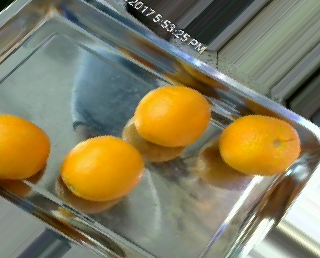Orange: (60, 134, 144, 202), (217, 113, 303, 177), (132, 84, 209, 147), (0, 111, 49, 179)
